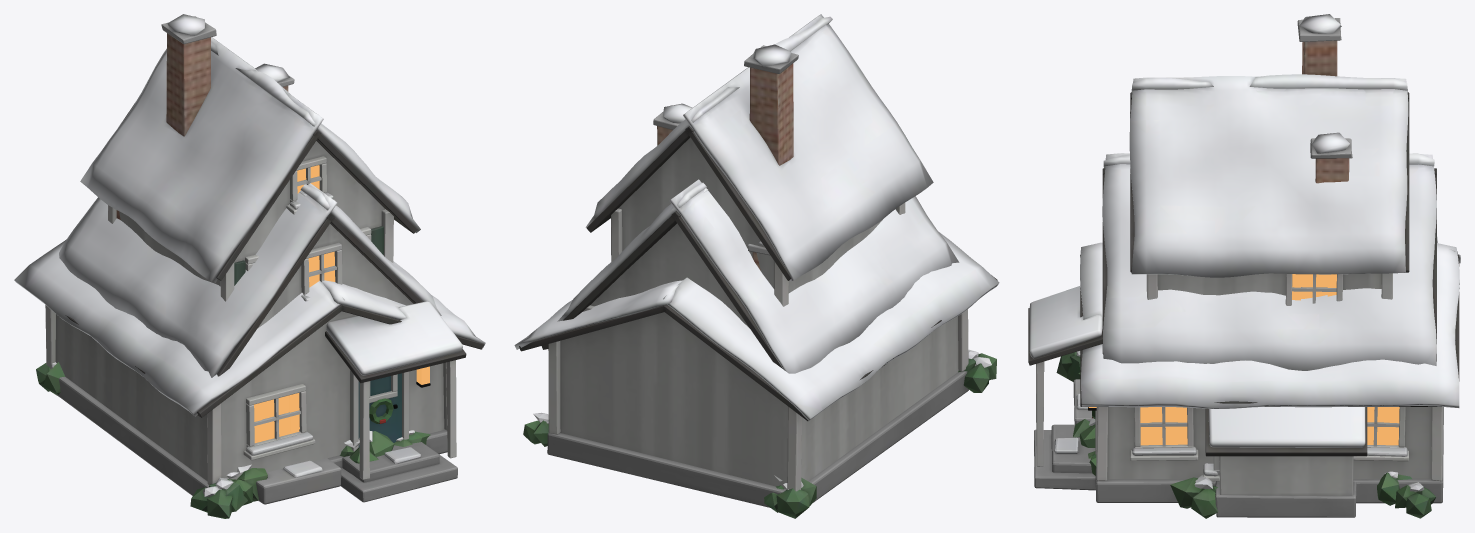
File: houses.glb
3 views of the same model, side by side, from view 1: azimuth 30°, elevation 25°; view 2: azimuth 150°, elevation 25°; view 3: azimuth 270°, elevation 25° (orthographic). The views are drawn at different scales.
Visible parts, largest first — view 1: Cabin_Body, Townhouse_Body, Cottage_Body, Cabin_Walls, Townhouse_Walls, Cottage_Walls, Cabin_Glow, Cottage_Glow; view 2: Townhouse_Body, Cabin_Walls, Cabin_Body, Cottage_Body, Townhouse_Walls, Cottage_Walls; view 3: Townhouse_Body, Cabin_Body, Cottage_Body, Aframe_Body, Cabin_Walls, Aframe_Walls, Townhouse_Walls, Cabin_Glow, Townhouse_Glow.
Boxes of the visible parts, <box> form: Cabin_Body: <box>14,210,485,518</box>; Townhouse_Body: <box>80,14,420,301</box>; Cottage_Body: <box>36,63,441,505</box>; Cabin_Walls: <box>55,311,444,481</box>; Townhouse_Walls: <box>119,141,384,286</box>; Cottage_Walls: <box>257,224,413,328</box>; Cabin_Glow: <box>254,366,429,443</box>; Cottage_Glow: <box>308,251,335,287</box>; Townhouse_Body: <box>585,14,933,306</box>; Cabin_Walls: <box>560,312,958,489</box>; Cabin_Body: <box>514,232,999,509</box>; Cottage_Body: <box>557,103,959,518</box>; Townhouse_Walls: <box>618,137,882,293</box>; Cottage_Walls: <box>590,223,749,328</box>; Townhouse_Body: <box>1129,14,1409,305</box>; Cabin_Body: <box>1028,242,1460,518</box>; Cottage_Body: <box>1073,132,1437,505</box>; Aframe_Body: <box>1203,407,1367,517</box>; Cabin_Walls: <box>1107,407,1431,479</box>; Aframe_Walls: <box>1219,456,1353,495</box>; Townhouse_Walls: <box>1157,273,1381,295</box>; Cabin_Glow: <box>1088,407,1399,445</box>; Townhouse_Glow: <box>1292,274,1336,300</box>.
Size of the model in its own units: 3.33 by 4.04 by 3.88.
Materials: 3 (2 with a texture image).
